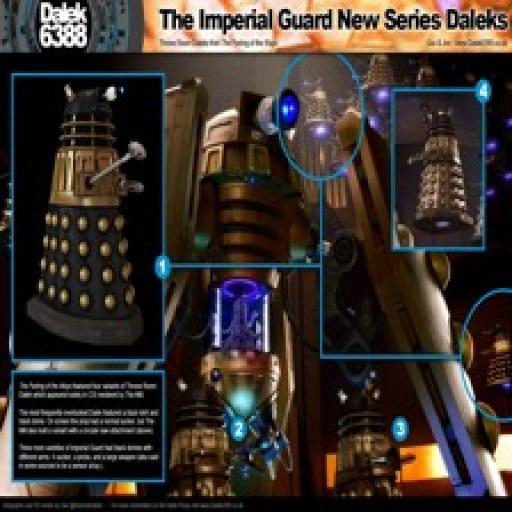dalek: (26, 78, 148, 344), (165, 368, 240, 512), (332, 371, 401, 500), (407, 100, 471, 234), (298, 70, 337, 146), (474, 321, 512, 392)
